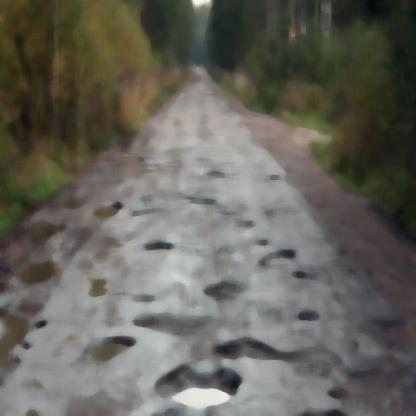Potholes: (166, 356, 242, 415), (0, 299, 35, 373), (86, 331, 130, 366), (204, 278, 240, 312), (22, 260, 56, 290), (91, 199, 122, 227), (260, 246, 299, 268), (142, 235, 177, 257), (188, 192, 218, 212)
